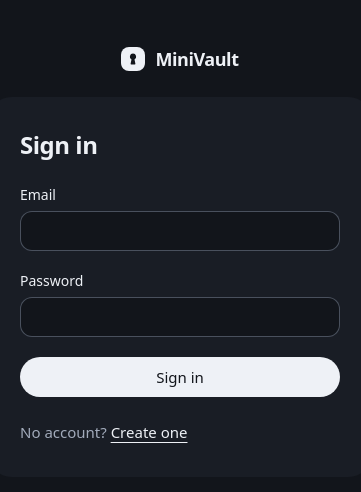
Test: explains rejected credentials
Type "user@example.test" into the field labelled "Email" at {"x": 180, "y": 231}, box [20,211,340,251]
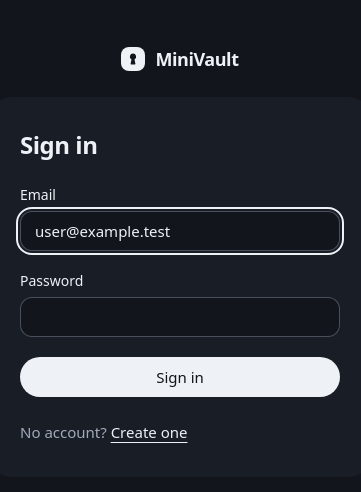
Type "correct horse battery" into the password field labelled "Password" at {"x": 180, "y": 317}, box [20,297,340,337]
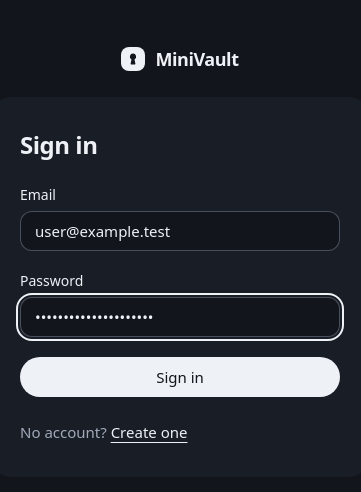
Click the button "Sign in" at {"x": 180, "y": 377}, box [20,357,340,397]
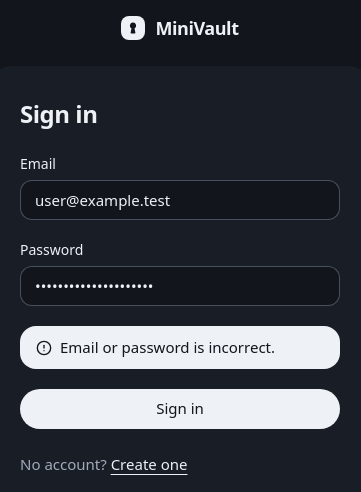
Expected: the message reads "Email or password is incorrect.", [60,337,275,357]
